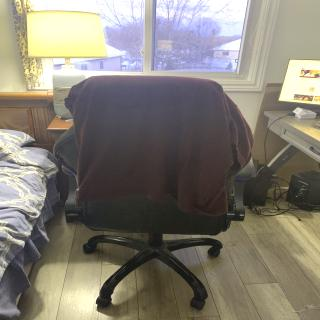Maroon T-Shirt: (71, 73, 246, 214)
